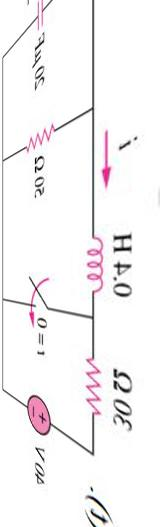resistor: (73, 335, 102, 430), (13, 104, 65, 152)
